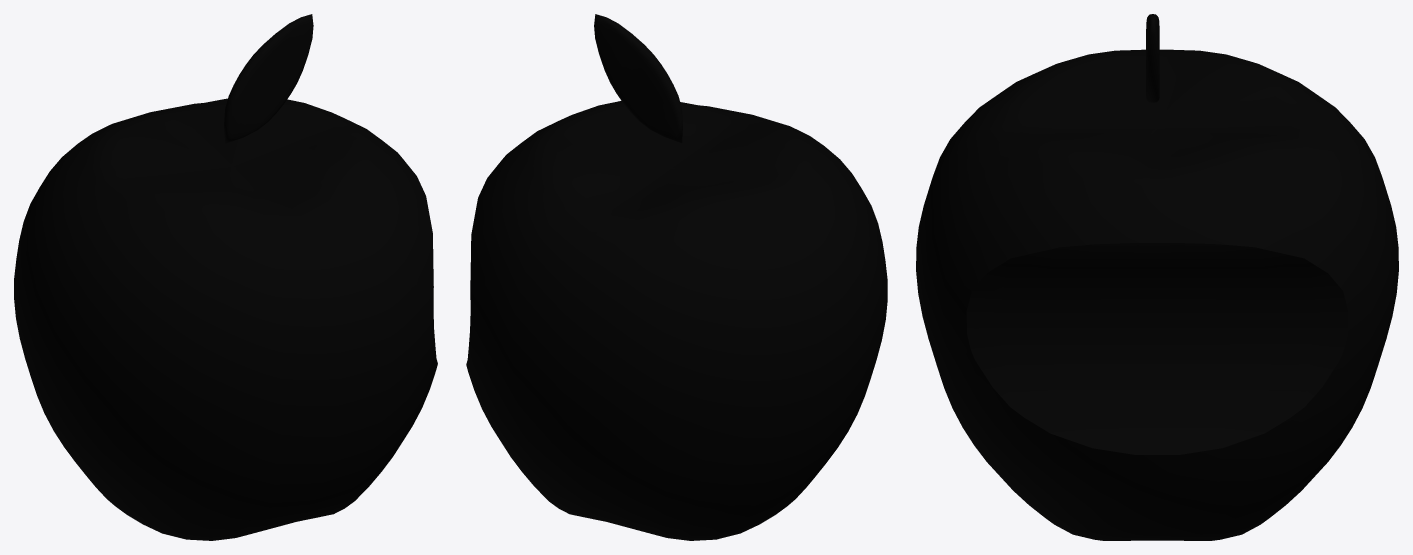
3 renders of one model, left to right at view 1: azimuth 30°, elevation 25°; view 2: azimuth 150°, elevation 25°; view 3: azimuth 270°, elevation 25°, orthographic. The views are drawn at different scales.
Visible parts, largest first — view 1: Apple Logo_01 - Default_0; view 2: Apple Logo_01 - Default_0; view 3: Apple Logo_01 - Default_0.
Boxes of the visible parts, left/top/right/bottom form: Apple Logo_01 - Default_0: left=14, top=14, right=437, bottom=540; Apple Logo_01 - Default_0: left=466, top=14, right=887, bottom=540; Apple Logo_01 - Default_0: left=916, top=14, right=1398, bottom=540.
Size of the model in its own units: 498 by 615 by 519.
1 material, 1 textured.
